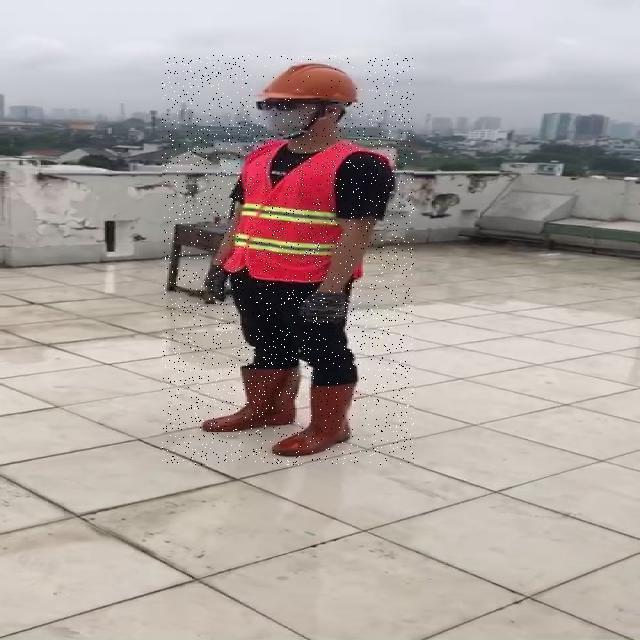gloves: (299, 291, 348, 324), (203, 262, 226, 302)
goggles: (254, 99, 321, 111)
helmet: (252, 60, 365, 102)
safety_vest: (226, 149, 384, 283)
